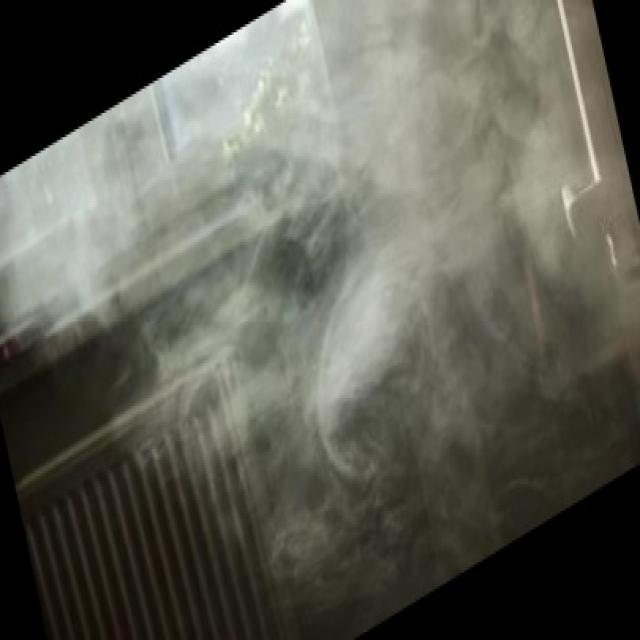smoke: (136, 0, 637, 522)
